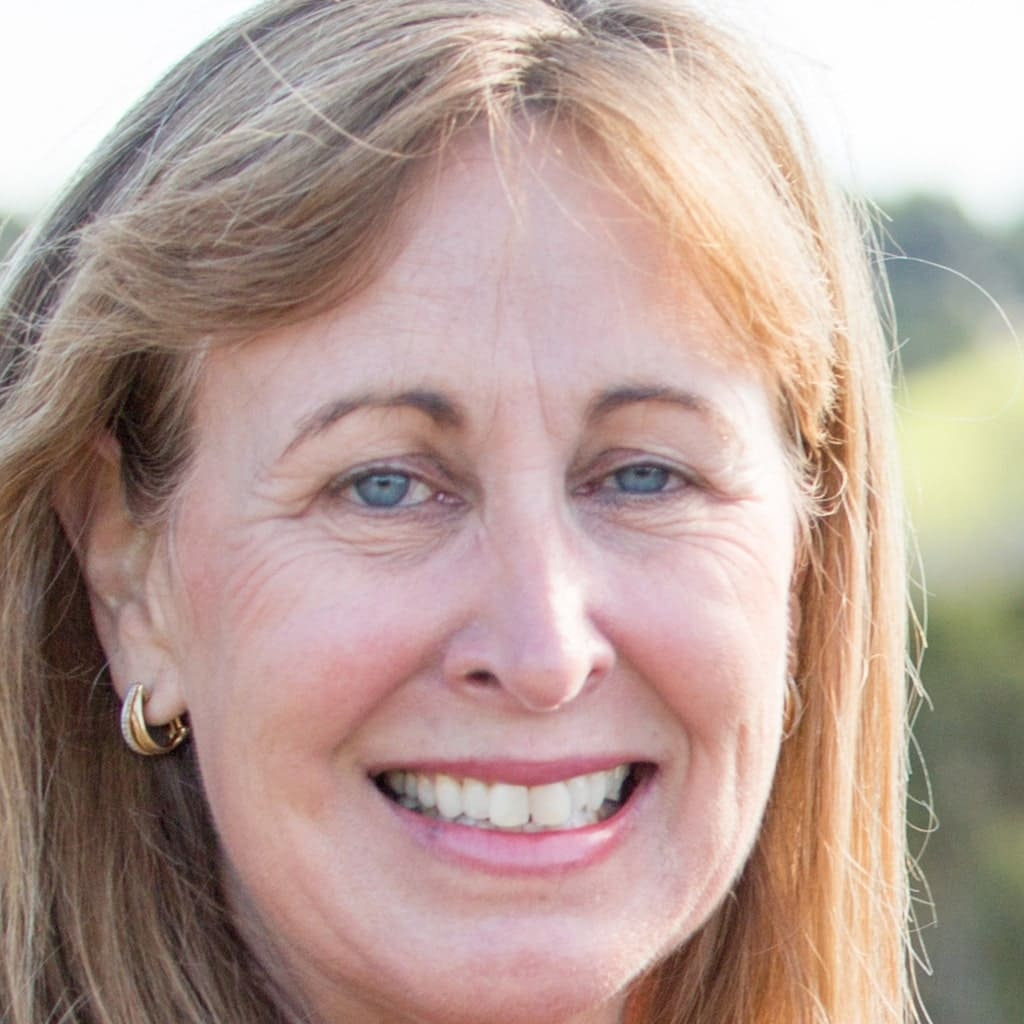without_mask: (259, 283, 771, 946)
